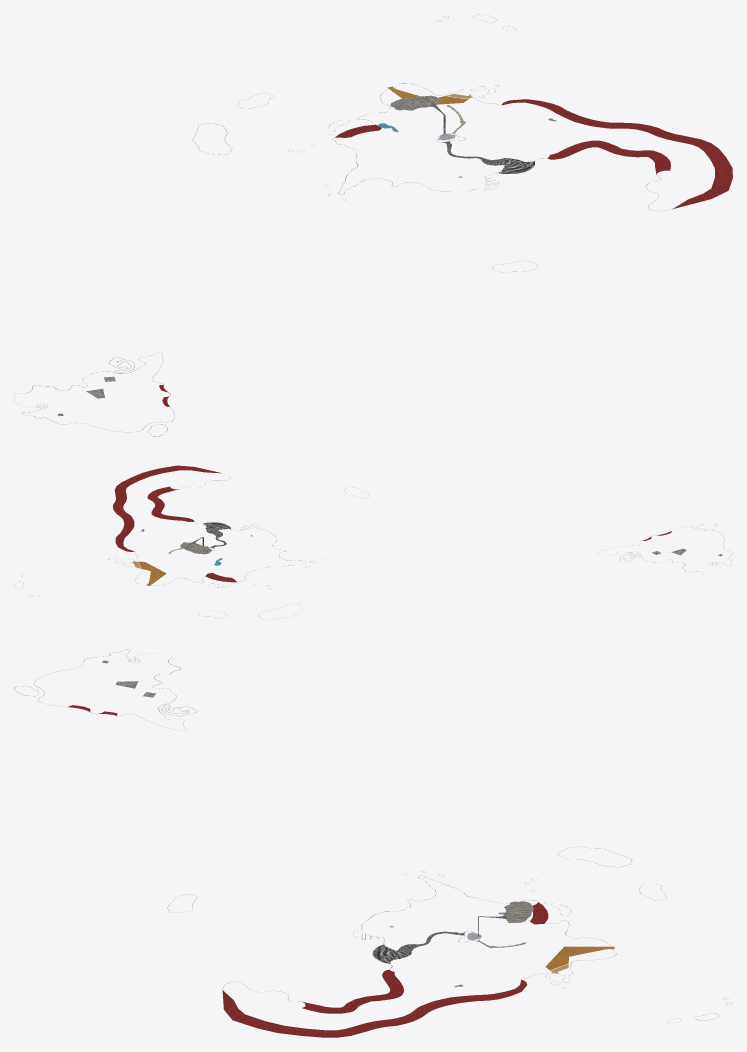
Rendered from WS2_common_sea.obj.
3 views of the same model, one above another, from view 1: azimuth 30°, elevation 25°; view 2: azimuth 150°, elevation 25°; view 3: azimuth 270°, elevation 25° (orthographic). The views are drawn at different scales.
Parts seen in each view (by area): view 1: polygon3, polygon1, polygon2, polygon0, polygon30, polygon27; view 2: polygon3, polygon1, polygon2, polygon0, polygon30, polygon19, polygon27; view 3: polygon3, polygon1, polygon2, polygon0, polygon30, polygon19, polygon27.
Part boxes in pixels (<box>): polygon3: <box>648,134,732,209</box>; polygon1: <box>547,119,674,159</box>; polygon2: <box>648,134,732,208</box>; polygon0: <box>548,118,674,159</box>; polygon30: <box>192,14,675,272</box>; polygon27: <box>441,141,534,173</box>; polygon3: <box>114,465,221,498</box>; polygon1: <box>113,497,194,525</box>; polygon2: <box>115,465,219,498</box>; polygon0: <box>113,497,193,525</box>; polygon30: <box>14,473,369,619</box>; polygon19: <box>132,558,222,585</box>; polygon27: <box>202,522,230,548</box>; polygon3: <box>222,990,374,1037</box>; polygon1: <box>342,970,449,1028</box>; polygon2: <box>223,992,374,1037</box>; polygon0: <box>343,970,450,1028</box>; polygon30: <box>167,846,732,1022</box>; polygon19: <box>495,912,614,973</box>; polygon27: <box>372,931,464,963</box>.
Size of what is drawn, in the model's own units: 45148 by 1350 by 35329.
